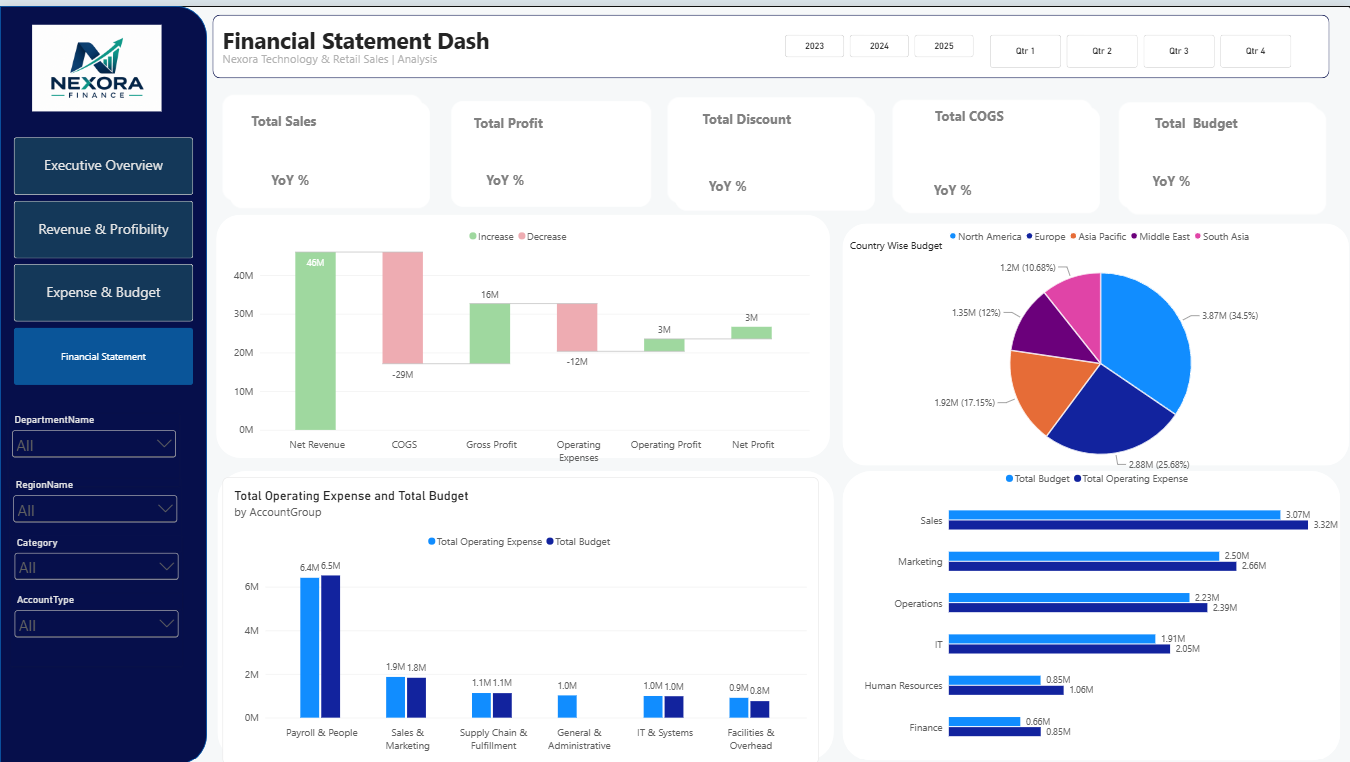

The page's visual inventory and layout, read from the dashboard file:
{"tool":"powerbi","page":{"name":"Financial Statement","canvas":[1920,1080],"ordinal":3},"visuals":[{"type":"shape","box":[0,0,294.2,1080.1],"z":0},{"type":"shape","box":[302.1,13.1,1587.5,90.1],"z":1000},{"type":"textbox","box":[316.7,27.1,798.1,76],"z":2000},{"type":"textbox","box":[316.5,64.4,779.6,39.3],"z":3000},{"type":"advanceCardE03760C5AB684758B56AA29F9E6C257B","title":"Total Sales","fields":{"mainMeasure":["Measure Table.Total Sales"]},"box":[317,126.9,284.3,150.2],"z":4000},{"type":"textbox","box":[347.4,141.3,207.4,60.8],"z":5000},{"type":"advanceCardE03760C5AB684758B56AA29F9E6C257B","fields":{"mainMeasure":["Measure Table.YoY %"]},"box":[391.4,202.7,141.2,65.1],"z":6000},{"type":"textbox","box":[375.1,224.4,159.3,59.7],"z":7000},{"type":"advanceCardE03760C5AB684758B56AA29F9E6C257B","title":"Total Sales","fields":{"mainMeasure":["Measure Table.Total Sales"]},"box":[327,136.9,284.3,150.2],"z":8000},{"type":"textbox","box":[357.4,151.3,207.4,60.8],"z":9000},{"type":"advanceCardE03760C5AB684758B56AA29F9E6C257B","fields":{"mainMeasure":["Measure Table.YoY %"]},"box":[401.4,212.7,141.2,65.1],"z":10000},{"type":"textbox","box":[385.1,234.4,159.3,59.7],"z":11000},{"type":"advanceCardE03760C5AB684758B56AA29F9E6C257B","title":"Total Sales","fields":{"mainMeasure":["Measure Table.Total Sales"]},"box":[633.7,128.6,284.3,150.2],"z":12000},{"type":"textbox","box":[664.1,142.9,207.4,60.8],"z":13000},{"type":"advanceCardE03760C5AB684758B56AA29F9E6C257B","fields":{"mainMeasure":["Measure Table.YoY %"]},"box":[708.1,204.3,141.2,65.1],"z":14000},{"type":"textbox","box":[681.9,216,159.3,59.7],"z":15000},{"type":"advanceCardE03760C5AB684758B56AA29F9E6C257B","title":"Total Sales","fields":{"mainMeasure":["Measure Table.Total Profit"]},"box":[640.6,135.7,284.1,150.2],"z":16000},{"type":"textbox","box":[674.1,152.9,207.4,60.8],"z":17000},{"type":"advanceCardE03760C5AB684758B56AA29F9E6C257B","fields":{"mainMeasure":["Measure Table.YoY Profit %"]},"box":[718.1,214.3,141.2,65.1],"z":18000},{"type":"textbox","box":[691.3,235.3,159.3,50.7],"z":19000},{"type":"advanceCardE03760C5AB684758B56AA29F9E6C257B","title":"Total Sales","fields":{"mainMeasure":["Measure Table.Total Sales"]},"box":[949.3,130.4,284.3,150.2],"z":20000},{"type":"textbox","box":[989.7,154.7,207.4,60.8],"z":21000},{"type":"advanceCardE03760C5AB684758B56AA29F9E6C257B","fields":{"mainMeasure":["Measure Table.YoY %"]},"box":[1033.7,216.2,141.2,65.1],"z":22000},{"type":"textbox","box":[997.4,217.9,159.3,59.7],"z":23000},{"type":"advanceCardE03760C5AB684758B56AA29F9E6C257B","title":"Total Sales","fields":{"mainMeasure":["Measure Table.Total Discount"]},"box":[959.3,140.4,284.3,150.2],"z":24000},{"type":"textbox","box":[998.9,146.6,208.1,52.5],"z":25000},{"type":"advanceCardE03760C5AB684758B56AA29F9E6C257B","fields":{"mainMeasure":["Measure Table.YoY Discount %"]},"box":[1043.7,226.2,141.2,65.1],"z":26000},{"type":"textbox","box":[1008,242.5,159.3,45.2],"z":27000},{"type":"advanceCardE03760C5AB684758B56AA29F9E6C257B","title":"Total Sales","fields":{"mainMeasure":["Measure Table.Total Sales"]},"box":[1268.2,134,284.3,150.2],"z":28000},{"type":"textbox","box":[1318.6,168.3,207.4,60.8],"z":29000},{"type":"advanceCardE03760C5AB684758B56AA29F9E6C257B","fields":{"mainMeasure":["Measure Table.YoY %"]},"box":[1352.6,219.7,141.2,65.1],"z":30000},{"type":"textbox","box":[1316.3,221.5,159.3,59.7],"z":31000},{"type":"advanceCardE03760C5AB684758B56AA29F9E6C257B","title":"Total Sales","fields":{"mainMeasure":["Measure Table.Total COGS"]},"box":[1278.2,144,284.3,150.2],"z":32000},{"type":"textbox","box":[1328.3,144.8,208.1,45.2],"z":33000},{"type":"advanceCardE03760C5AB684758B56AA29F9E6C257B","fields":{"mainMeasure":["Measure Table.YoY COGS %"]},"box":[1362.6,229.7,141.2,65.1],"z":34000},{"type":"textbox","box":[1326.5,247.9,159.3,43.4],"z":35000},{"type":"advanceCardE03760C5AB684758B56AA29F9E6C257B","title":"Total Sales","fields":{"mainMeasure":["Measure Table.Total Sales"]},"box":[1590.3,136,284.3,150.2],"z":36000},{"type":"textbox","box":[1630.7,160.3,207.4,60.8],"z":37000},{"type":"advanceCardE03760C5AB684758B56AA29F9E6C257B","fields":{"mainMeasure":["Measure Table.YoY %"]},"box":[1664.7,211.7,141.2,65.1],"z":38000},{"type":"textbox","box":[1628.4,213.4,159.3,59.7],"z":39000},{"type":"advanceCardE03760C5AB684758B56AA29F9E6C257B","title":"Total Sales","fields":{"mainMeasure":["Measure Table.Total Budget"]},"box":[1600.3,146,284.3,150.2],"z":40000},{"type":"textbox","box":[1641.4,152,206.3,47.1],"z":41000},{"type":"advanceCardE03760C5AB684758B56AA29F9E6C257B","fields":{"mainMeasure":["Measure Table.YoY Budget %"]},"box":[1674.7,221.7,141.2,65.1],"z":42000},{"type":"textbox","box":[1637.7,237.1,159.3,45.2],"z":43000},{"type":"advancedSlicerVisual","fields":{"Values":["Dataset_DimDate.Date.Variation.Date Hierarchy.Year"]},"box":[1114.8,41.6,269.6,32.6],"z":44000},{"type":"shape","box":[307.6,296.8,872.3,345.6],"z":45000},{"type":"waterfallChart","fields":{"Category":["P&L Waterfall.Category","P&L Waterfall.SortOrder"],"Y":["P&L Waterfall.P&L Waterfall Amount"]},"box":[309.5,296.8,857.8,372.8],"z":46000},{"type":"shape","box":[1198,309.9,719.9,343.9],"z":47000},{"type":"pieChart","fields":{"Category":["Dataset_DimRegion.RegionName"],"Y":["Measure Table.Total Budget"]},"box":[1207.4,296.7,712.4,394.9],"z":48000},{"type":"shape","box":[1198,660.5,707.6,412.6],"z":49000},{"type":"clusteredBarChart","fields":{"Category":["Dataset_DimDepartment.DepartmentName"],"Y":["Measure Table.Total Budget","Measure Table.Total Opreating Expense"]},"box":[1205.1,641.9,713.4,438.1],"z":50000},{"type":"shape","box":[309.5,660.5,875.9,412.6],"z":51000},{"type":"clusteredColumnChart","fields":{"Category":["Dataset_DimAccount.AccountGroup"],"Y":["Measure Table.Total Opreating Expense","Measure Table.Total Budget"]},"box":[315.6,668.9,847.5,409.5],"z":52000},{"type":"image","box":[0,27.1,275.1,123.1],"z":61000},{"type":"slicer","fields":{"Values":["Dataset_DimDepartment.DepartmentName"]},"box":[12.7,579,242.5,103.2],"z":62000},{"type":"slicer","fields":{"Values":["Dataset_DimRegion.RegionName"]},"box":[14.5,671.2,242.5,103.2],"z":63000},{"type":"slicer","fields":{"Values":["Dataset_DimProduct.Category"]},"box":[16.3,752.7,242.5,103.2],"z":64000},{"type":"slicer","fields":{"Values":["Dataset_DimAccount.AccountType"]},"box":[16.3,834.1,242.5,103.2],"z":65000},{"type":"textbox","box":[1207.4,330.7,268.3,41.6],"z":66000},{"type":"pageNavigator","box":[18.9,187.1,255.1,353.3],"z":67000},{"type":"advancedSlicerVisual","fields":{"Values":["Dataset_DimDate.Date.Variation.Date Hierarchy.Quarter"]},"box":[1407.7,41.6,430.8,47.2],"z":67001}]}

Visuals, with their boxes on the page's 1920x1080 design canvas (x1, y1, x2, y2). These are canvas units, not pixel positions in the 1350x762 screenshot, which may show the page scaled, cropped or inside an application window:
shape: pyautogui.locateOnScreen(0, 0, 294, 1080)
shape: pyautogui.locateOnScreen(302, 13, 1890, 103)
textbox: pyautogui.locateOnScreen(317, 27, 1115, 103)
textbox: pyautogui.locateOnScreen(316, 64, 1096, 104)
"Total Sales" advanceCardE03760C5AB684758B56AA29F9E6C257B: pyautogui.locateOnScreen(317, 127, 601, 277)
textbox: pyautogui.locateOnScreen(347, 141, 555, 202)
advanceCardE03760C5AB684758B56AA29F9E6C257B - Measure Table.YoY %: pyautogui.locateOnScreen(391, 203, 533, 268)
textbox: pyautogui.locateOnScreen(375, 224, 534, 284)
"Total Sales" advanceCardE03760C5AB684758B56AA29F9E6C257B: pyautogui.locateOnScreen(327, 137, 611, 287)
textbox: pyautogui.locateOnScreen(357, 151, 565, 212)
advanceCardE03760C5AB684758B56AA29F9E6C257B - Measure Table.YoY %: pyautogui.locateOnScreen(401, 213, 543, 278)
textbox: pyautogui.locateOnScreen(385, 234, 544, 294)
"Total Sales" advanceCardE03760C5AB684758B56AA29F9E6C257B: pyautogui.locateOnScreen(634, 129, 918, 279)
textbox: pyautogui.locateOnScreen(664, 143, 872, 204)
advanceCardE03760C5AB684758B56AA29F9E6C257B - Measure Table.YoY %: pyautogui.locateOnScreen(708, 204, 849, 269)
textbox: pyautogui.locateOnScreen(682, 216, 841, 276)
"Total Sales" advanceCardE03760C5AB684758B56AA29F9E6C257B: pyautogui.locateOnScreen(641, 136, 925, 286)
textbox: pyautogui.locateOnScreen(674, 153, 882, 214)
advanceCardE03760C5AB684758B56AA29F9E6C257B - Measure Table.YoY Profit %: pyautogui.locateOnScreen(718, 214, 859, 279)
textbox: pyautogui.locateOnScreen(691, 235, 851, 286)
"Total Sales" advanceCardE03760C5AB684758B56AA29F9E6C257B: pyautogui.locateOnScreen(949, 130, 1234, 281)
textbox: pyautogui.locateOnScreen(990, 155, 1197, 216)
advanceCardE03760C5AB684758B56AA29F9E6C257B - Measure Table.YoY %: pyautogui.locateOnScreen(1034, 216, 1175, 281)
textbox: pyautogui.locateOnScreen(997, 218, 1157, 278)
"Total Sales" advanceCardE03760C5AB684758B56AA29F9E6C257B: pyautogui.locateOnScreen(959, 140, 1244, 291)
textbox: pyautogui.locateOnScreen(999, 147, 1207, 199)
advanceCardE03760C5AB684758B56AA29F9E6C257B - Measure Table.YoY Discount %: pyautogui.locateOnScreen(1044, 226, 1185, 291)
textbox: pyautogui.locateOnScreen(1008, 242, 1167, 288)
"Total Sales" advanceCardE03760C5AB684758B56AA29F9E6C257B: pyautogui.locateOnScreen(1268, 134, 1552, 284)
textbox: pyautogui.locateOnScreen(1319, 168, 1526, 229)
advanceCardE03760C5AB684758B56AA29F9E6C257B - Measure Table.YoY %: pyautogui.locateOnScreen(1353, 220, 1494, 285)
textbox: pyautogui.locateOnScreen(1316, 222, 1476, 281)
"Total Sales" advanceCardE03760C5AB684758B56AA29F9E6C257B: pyautogui.locateOnScreen(1278, 144, 1562, 294)
textbox: pyautogui.locateOnScreen(1328, 145, 1536, 190)
advanceCardE03760C5AB684758B56AA29F9E6C257B - Measure Table.YoY COGS %: pyautogui.locateOnScreen(1363, 230, 1504, 295)
textbox: pyautogui.locateOnScreen(1326, 248, 1486, 291)
"Total Sales" advanceCardE03760C5AB684758B56AA29F9E6C257B: pyautogui.locateOnScreen(1590, 136, 1875, 286)
textbox: pyautogui.locateOnScreen(1631, 160, 1838, 221)
advanceCardE03760C5AB684758B56AA29F9E6C257B - Measure Table.YoY %: pyautogui.locateOnScreen(1665, 212, 1806, 277)
textbox: pyautogui.locateOnScreen(1628, 213, 1788, 273)
"Total Sales" advanceCardE03760C5AB684758B56AA29F9E6C257B: pyautogui.locateOnScreen(1600, 146, 1885, 296)
textbox: pyautogui.locateOnScreen(1641, 152, 1848, 199)
advanceCardE03760C5AB684758B56AA29F9E6C257B - Measure Table.YoY Budget %: pyautogui.locateOnScreen(1675, 222, 1816, 287)
textbox: pyautogui.locateOnScreen(1638, 237, 1797, 282)
advancedSlicerVisual - Dataset_DimDate.Date.Variation.Date Hierarchy.Year: pyautogui.locateOnScreen(1115, 42, 1384, 74)
shape: pyautogui.locateOnScreen(308, 297, 1180, 642)
waterfallChart - P&L Waterfall.Category x P&L Waterfall.SortOrder: pyautogui.locateOnScreen(310, 297, 1167, 670)
shape: pyautogui.locateOnScreen(1198, 310, 1918, 654)
pieChart - Dataset_DimRegion.RegionName x Measure Table.Total Budget: pyautogui.locateOnScreen(1207, 297, 1920, 692)
shape: pyautogui.locateOnScreen(1198, 660, 1906, 1073)
clusteredBarChart - Dataset_DimDepartment.DepartmentName x Measure Table.Total Budget: pyautogui.locateOnScreen(1205, 642, 1918, 1080)
shape: pyautogui.locateOnScreen(310, 660, 1185, 1073)
clusteredColumnChart - Dataset_DimAccount.AccountGroup x Measure Table.Total Opreating Expense: pyautogui.locateOnScreen(316, 669, 1163, 1078)
image: pyautogui.locateOnScreen(0, 27, 275, 150)
slicer - Dataset_DimDepartment.DepartmentName: pyautogui.locateOnScreen(13, 579, 255, 682)
slicer - Dataset_DimRegion.RegionName: pyautogui.locateOnScreen(14, 671, 257, 774)
slicer - Dataset_DimProduct.Category: pyautogui.locateOnScreen(16, 753, 259, 856)
slicer - Dataset_DimAccount.AccountType: pyautogui.locateOnScreen(16, 834, 259, 937)
textbox: pyautogui.locateOnScreen(1207, 331, 1476, 372)
pageNavigator: pyautogui.locateOnScreen(19, 187, 274, 540)
advancedSlicerVisual - Dataset_DimDate.Date.Variation.Date Hierarchy.Quarter: pyautogui.locateOnScreen(1408, 42, 1838, 89)
